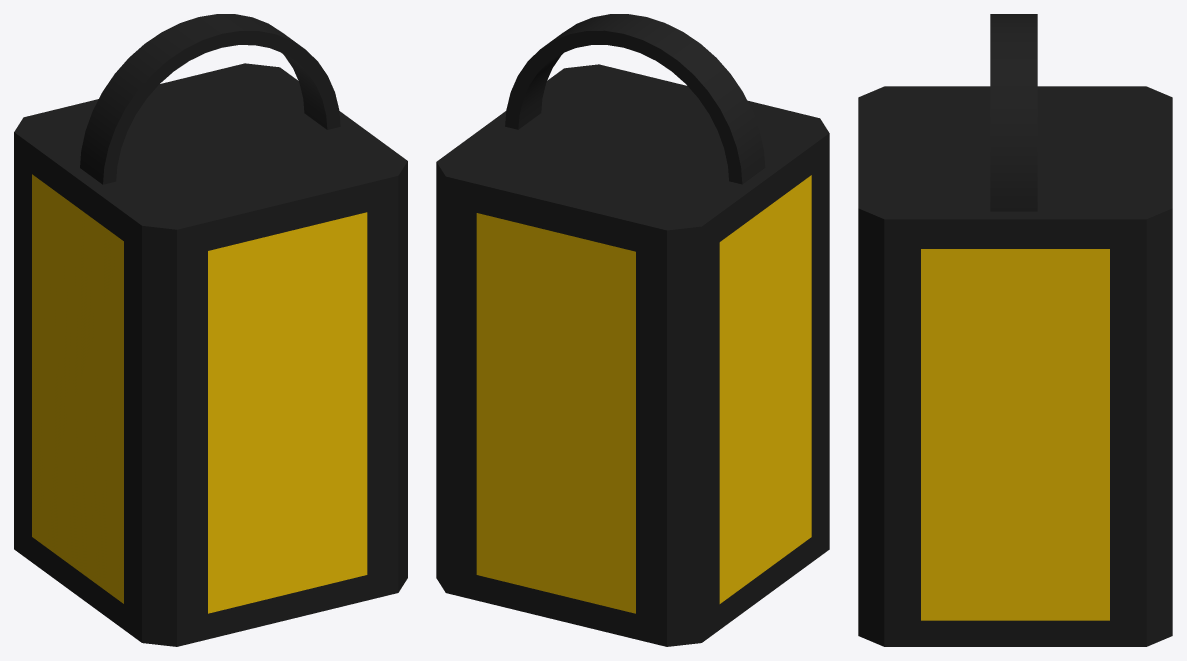
File: Lamp_Proto.FBX
The picture shows the model from 3 angles, left to right: view 1: azimuth 30°, elevation 25°; view 2: azimuth 150°, elevation 25°; view 3: azimuth 270°, elevation 25°; orthographic projection. The views are drawn at different scales.
Parts seen in each view (by area): view 1: Lamp, Handle; view 2: Lamp, Handle; view 3: Lamp, Handle.
Boxes of the visible parts, x1,y1,x2,y2 form: Lamp: (14, 63, 407, 646); Handle: (80, 14, 340, 184); Lamp: (436, 64, 829, 646); Handle: (505, 14, 765, 184); Lamp: (858, 86, 1172, 646); Handle: (990, 14, 1037, 211).
Size of the model in its own units: 20 by 38.77 by 20.
